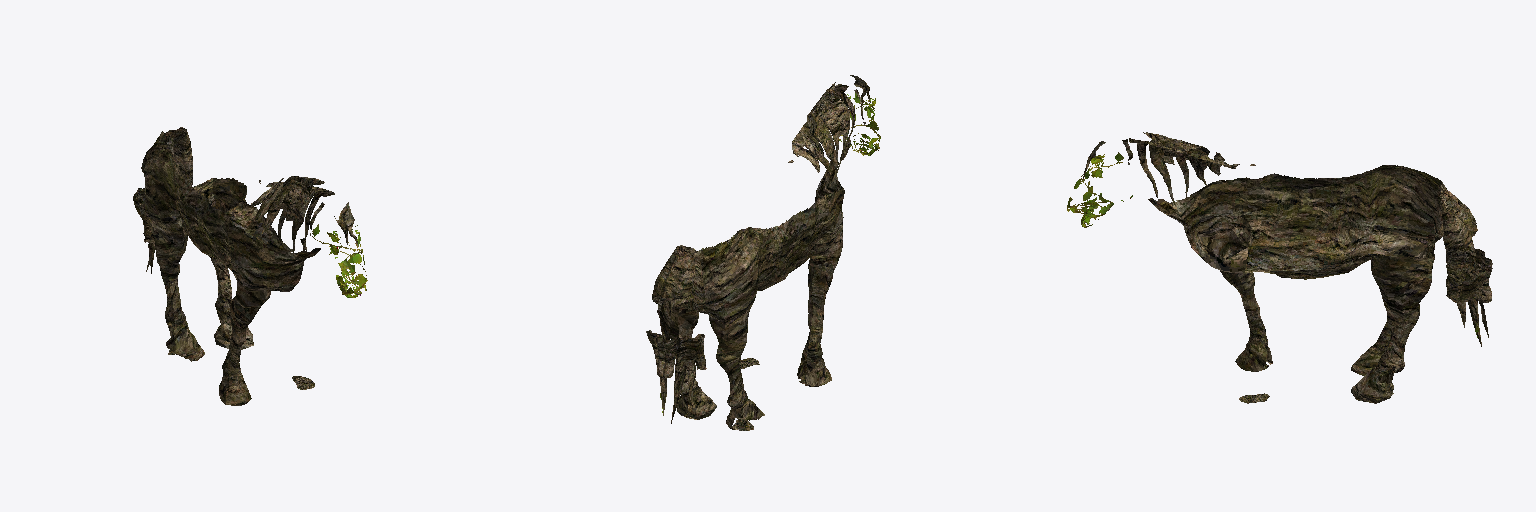
The picture shows the model from 3 angles: view 1: azimuth 30°, elevation 25°; view 2: azimuth 150°, elevation 25°; view 3: azimuth 270°, elevation 25°; orthographic projection.
Parts seen in each view (by area): view 1: Plane, BezierCurve_Mesh, BezierCurve.005_Mesh.005; view 2: Plane, BezierCurve.005_Mesh.005, BezierCurve_Mesh; view 3: Plane, BezierCurve.005_Mesh.005, BezierCurve_Mesh.
Boxes of the visible parts, x1=… form: Plane: x1=143, y1=131, x2=367, y2=405; BezierCurve_Mesh: x1=251, y1=176, x2=357, y2=255; BezierCurve.005_Mesh.005: x1=133, y1=127, x2=192, y2=273; Plane: x1=657, y1=93, x2=880, y2=430; BezierCurve.005_Mesh.005: x1=646, y1=245, x2=706, y2=423; BezierCurve_Mesh: x1=788, y1=75, x2=870, y2=181; Plane: x1=1067, y1=152, x2=1446, y2=403; BezierCurve.005_Mesh.005: x1=1438, y1=185, x2=1492, y2=346; BezierCurve_Mesh: x1=1083, y1=132, x2=1255, y2=205.
Bounding box in the file's own units: 3.88 × 9.59 × 14.47.
Materials: 1 (1 with a texture image).